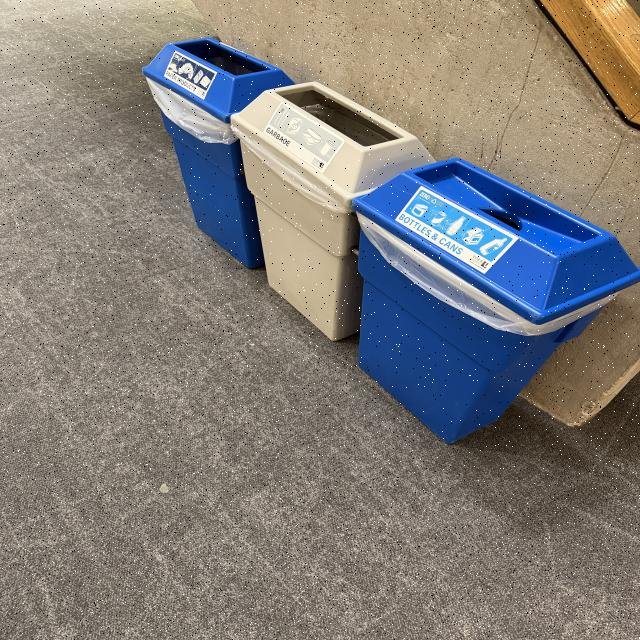Dustbin: (143, 34, 640, 449)
